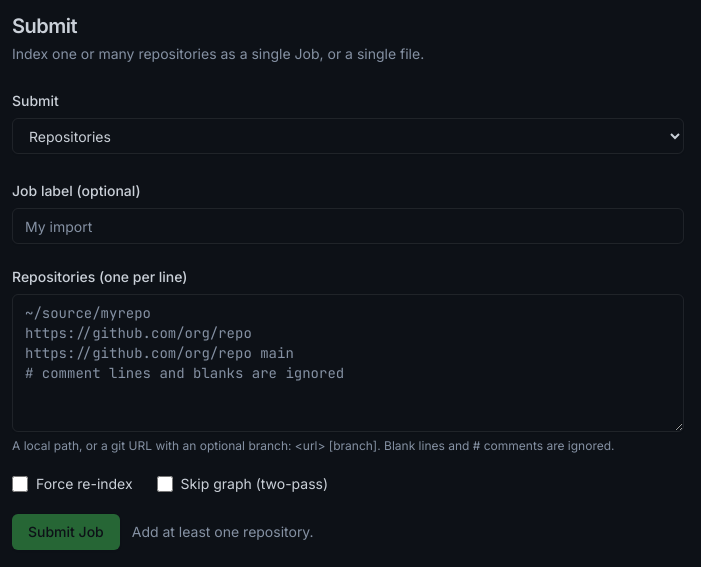
Test: SubmitPage — file mode › posts a single-file body to /index-file
Select "File" in the dropdown labelled "Submit": (348, 136) top-left (12, 118), bottom-right (684, 154)
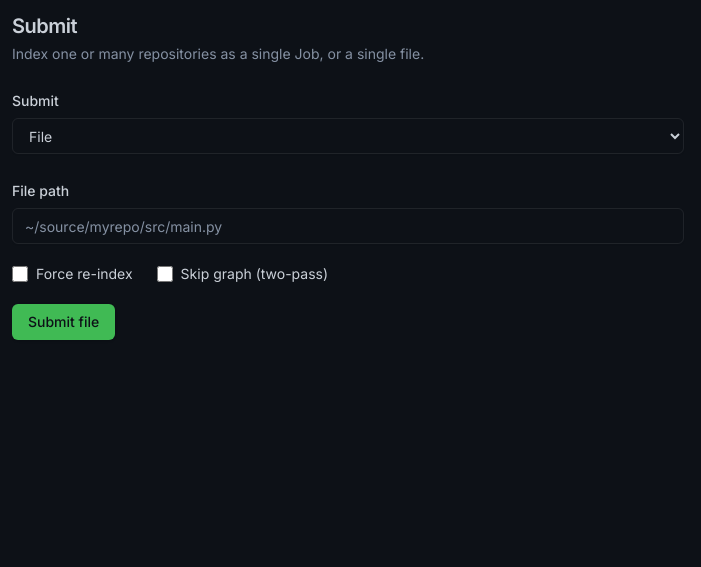
In the field labelled "File path": (348, 226) top-left (12, 208), bottom-right (684, 244), type "/home/u/repo/main.py"
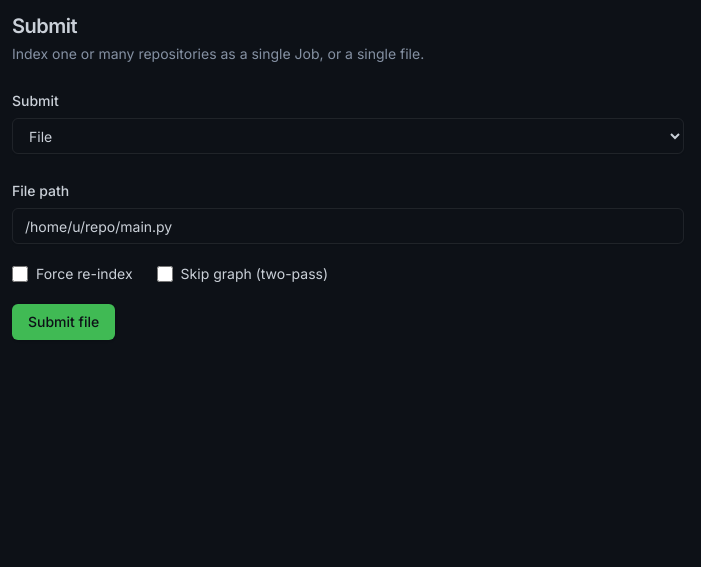
Click the button "Submit file": click(64, 322) top-left (12, 304), bottom-right (115, 340)
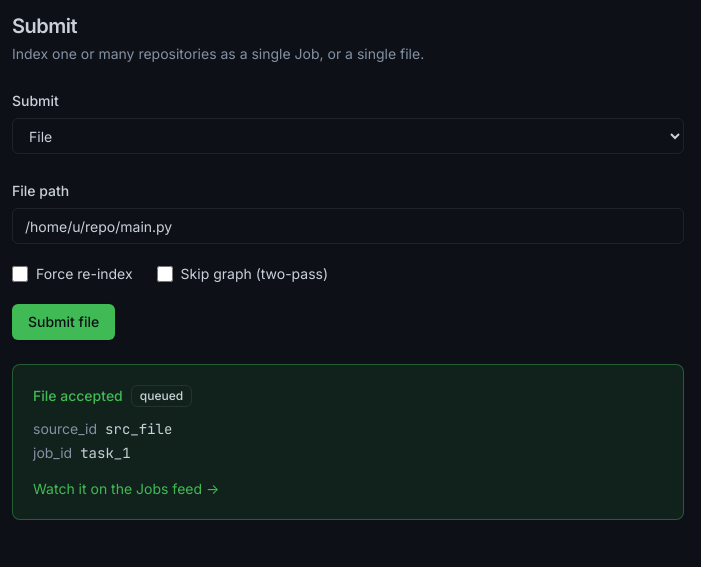
Check: the text "File accepted" is shown, box top-left (33, 386), bottom-right (123, 406)
Check: the text "src_file" is shown, box top-left (105, 419), bottom-right (172, 439)
